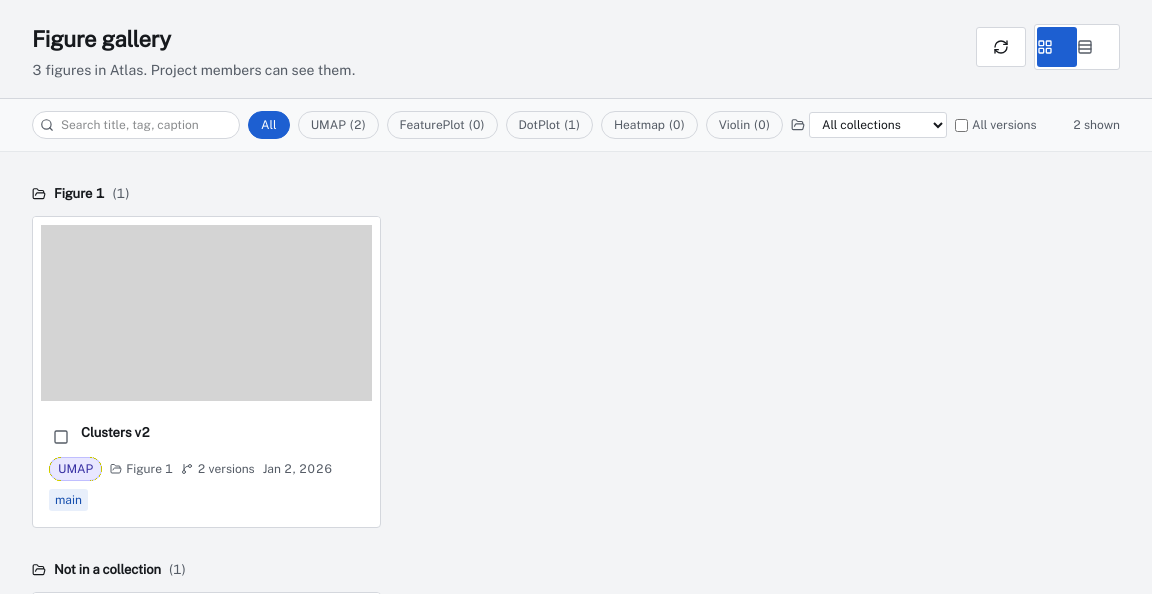
Test case: Publication › project gallery › shows the latest version per figure, grouped by collection, and searches
The width and height of the screenshot is (1152, 594).
Expected: the text "Clusters v2" is shown, [81,425,150,440]
Expected: the text "2 versions" is shown, [181,460,255,478]
Type "markers" into the field with placeholder "Search title, tag, caption" at [136, 125], box [32,111,240,139]
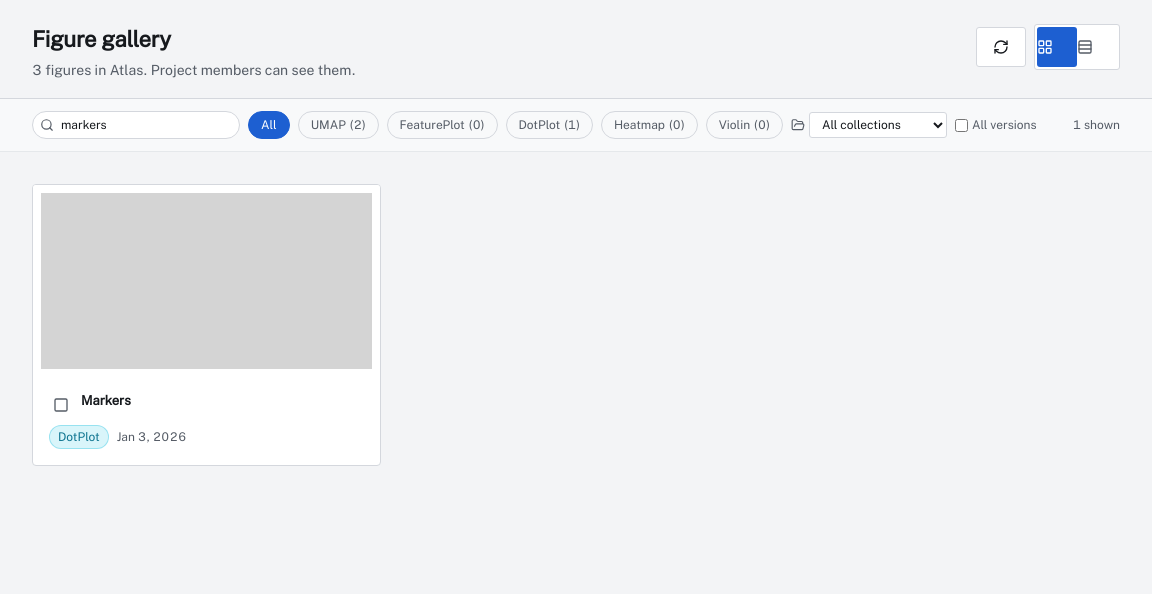
Expected: the text "Markers" is shown, [81,393,131,408]
Result: the text "Clusters v2" is gone
